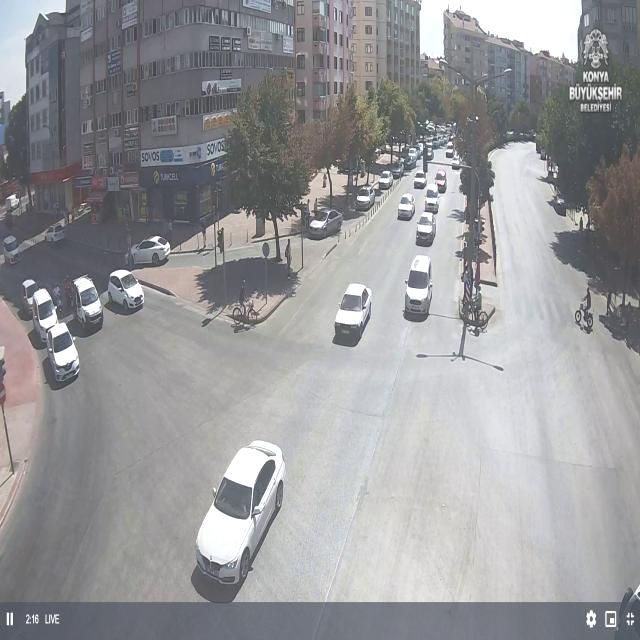Car: (193, 438, 286, 588), (334, 283, 372, 338), (47, 321, 80, 383), (73, 277, 104, 329), (124, 236, 171, 268), (33, 289, 59, 346), (108, 270, 144, 311), (309, 209, 343, 238), (21, 278, 43, 320), (416, 212, 435, 246), (356, 187, 376, 210), (45, 223, 65, 246), (398, 195, 415, 219), (378, 170, 393, 190), (433, 172, 448, 192), (413, 172, 427, 189)
Cycle: (574, 303, 594, 330)
Van: (403, 255, 432, 318), (424, 185, 440, 213)
